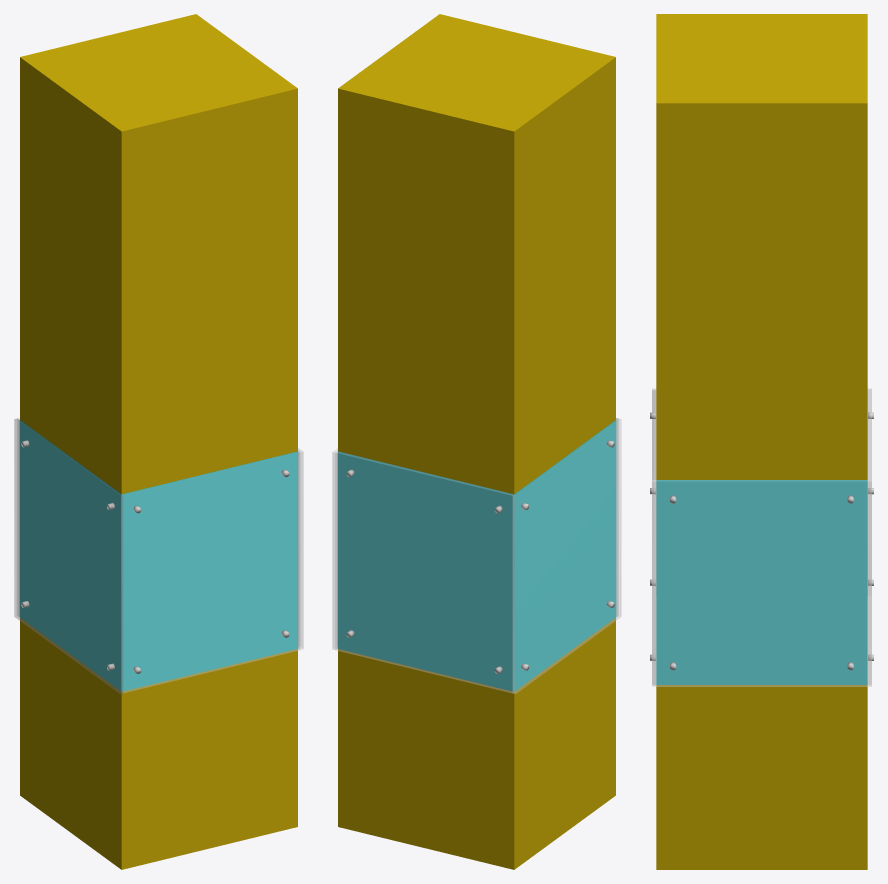
File: pillar.glb
The picture shows the model from 3 angles, left to right: view 1: azimuth 30°, elevation 25°; view 2: azimuth 150°, elevation 25°; view 3: azimuth 270°, elevation 25°; orthographic projection. The views are drawn at different scales.
Visible parts, largest first — view 1: Cube.006, Cube.003, Plane.003, Cube, Plane, Cube.001, Cube.002; view 2: Cube.006, Cube.002, Plane.002, Cube, Plane, Cube.001, Cube.003; view 3: Cube.006, Cube.001, Plane.001, Cube.002, Cube.003, Cube.
Part boxes in pixels (x1,y1,x2,y2): Cube.006: (20, 14, 297, 869); Cube.003: (121, 451, 300, 692); Plane.003: (122, 451, 297, 691); Cube: (14, 418, 122, 693); Plane: (19, 420, 121, 691); Cube.001: (298, 448, 303, 649); Cube.002: (17, 418, 19, 616); Cube.006: (338, 14, 615, 869); Cube.002: (335, 451, 514, 693); Plane.002: (338, 451, 513, 691); Cube: (513, 418, 621, 693); Plane: (514, 420, 616, 691); Cube.001: (332, 448, 337, 649); Cube.003: (616, 418, 618, 616); Cube.006: (656, 14, 867, 869); Cube.001: (652, 480, 871, 686); Plane.001: (656, 480, 867, 684); Cube.002: (868, 390, 871, 684); Cube.003: (652, 390, 655, 684); Cube: (652, 389, 871, 479).
Size of the model in its own units: 1.06 by 4 by 1.06.
